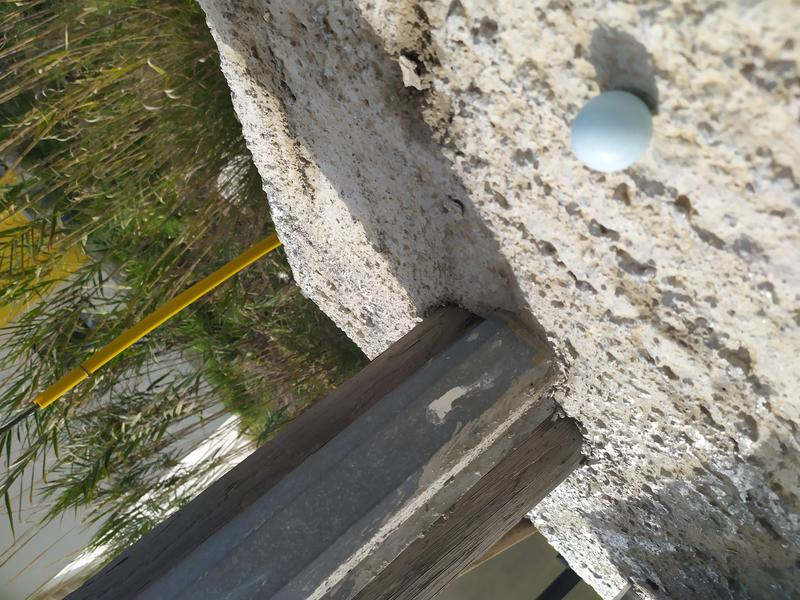Warning: (567, 87, 656, 175)
